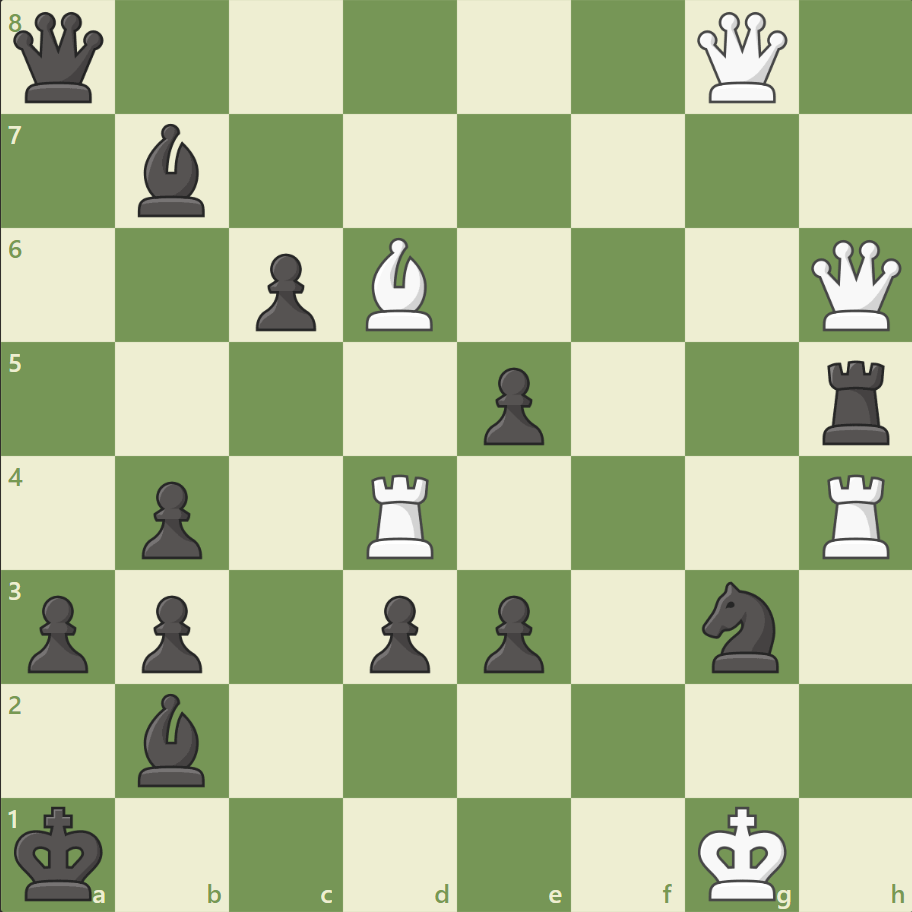B: (358, 233, 442, 336)
K: (692, 798, 792, 906)
Q: (691, 9, 790, 108), (805, 236, 904, 335)
R: (814, 466, 897, 563), (360, 466, 442, 563)
b: (131, 687, 215, 790), (131, 120, 215, 222)
k: (11, 798, 111, 906)
n: (692, 575, 789, 677)
p: (247, 246, 322, 337), (474, 359, 549, 450), (133, 473, 208, 564), (20, 586, 95, 677), (133, 586, 208, 677), (474, 586, 549, 677), (361, 586, 435, 677)
q: (10, 9, 109, 108)
r: (814, 352, 897, 449)
